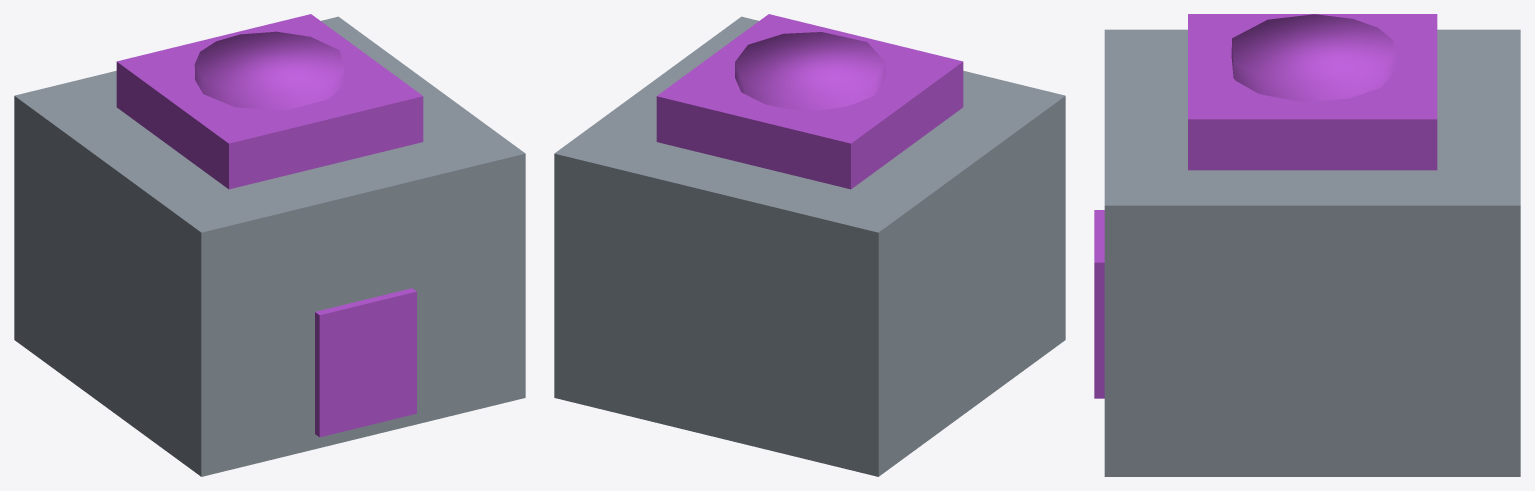
File: CH_AATurret_LOD1.glb
3 renders of one model, left to right at view 1: azimuth 30°, elevation 25°; view 2: azimuth 150°, elevation 25°; view 3: azimuth 270°, elevation 25°, orthographic. The views are drawn at different scales.
Parts seen in each view (by area): view 1: EntranceGate; view 2: EntranceGate; view 3: EntranceGate.
Boxes of the visible parts, x1,y1,x2,y2 form: EntranceGate: [14, 14, 525, 476]; EntranceGate: [554, 14, 1065, 476]; EntranceGate: [1094, 14, 1520, 476].
Bounding box in the file's own units: 400 × 360 × 410.
